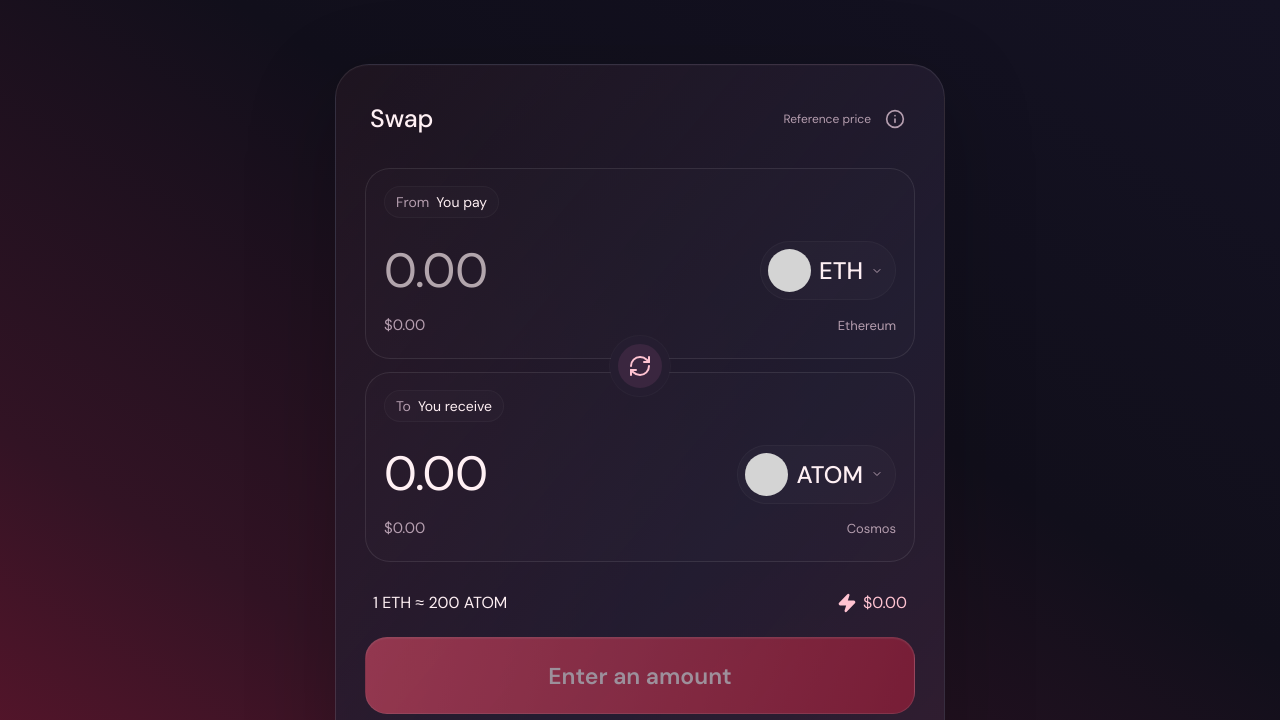
Test: swap interactions › keeps a fallback token unchanged when the user selects the same token
The width and height of the screenshot is (1280, 720).
Click the button with aria-label "You pay: ETH. Select token": point(828, 270) [760, 241, 896, 300]
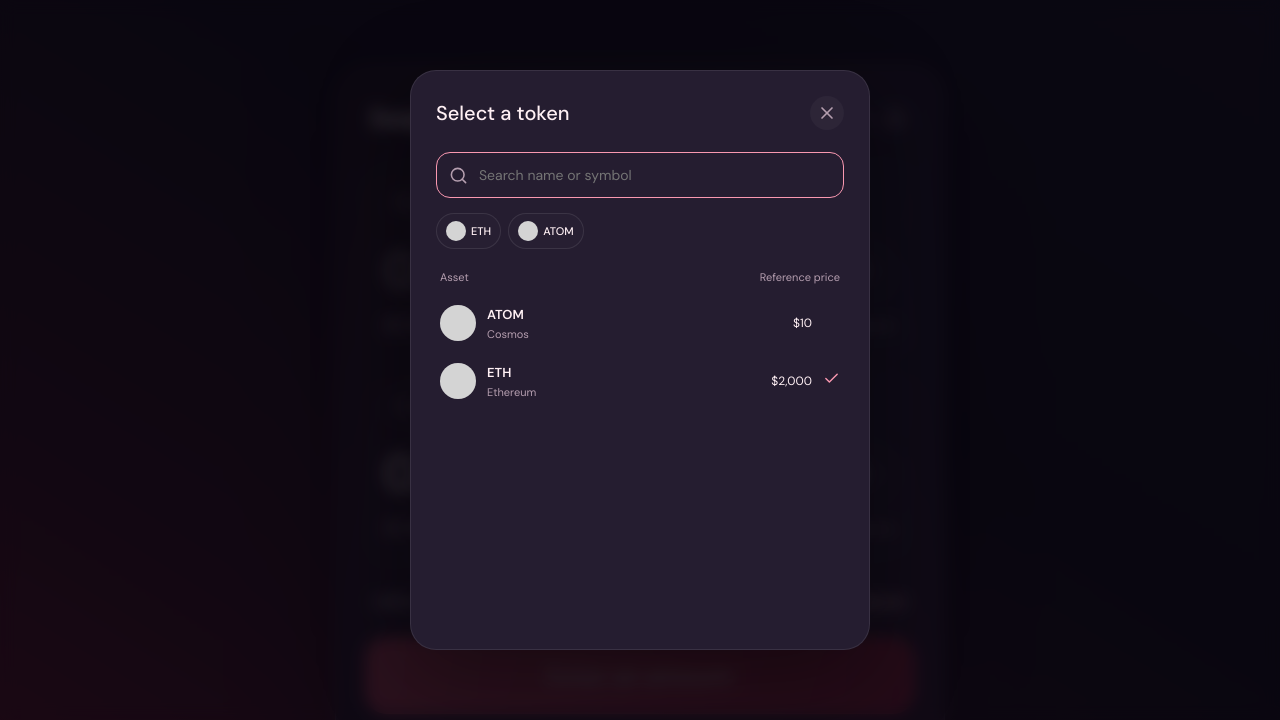
Click the button with aria-label "Select ATOM, Cosmos": point(458, 323) [432, 294, 848, 352]
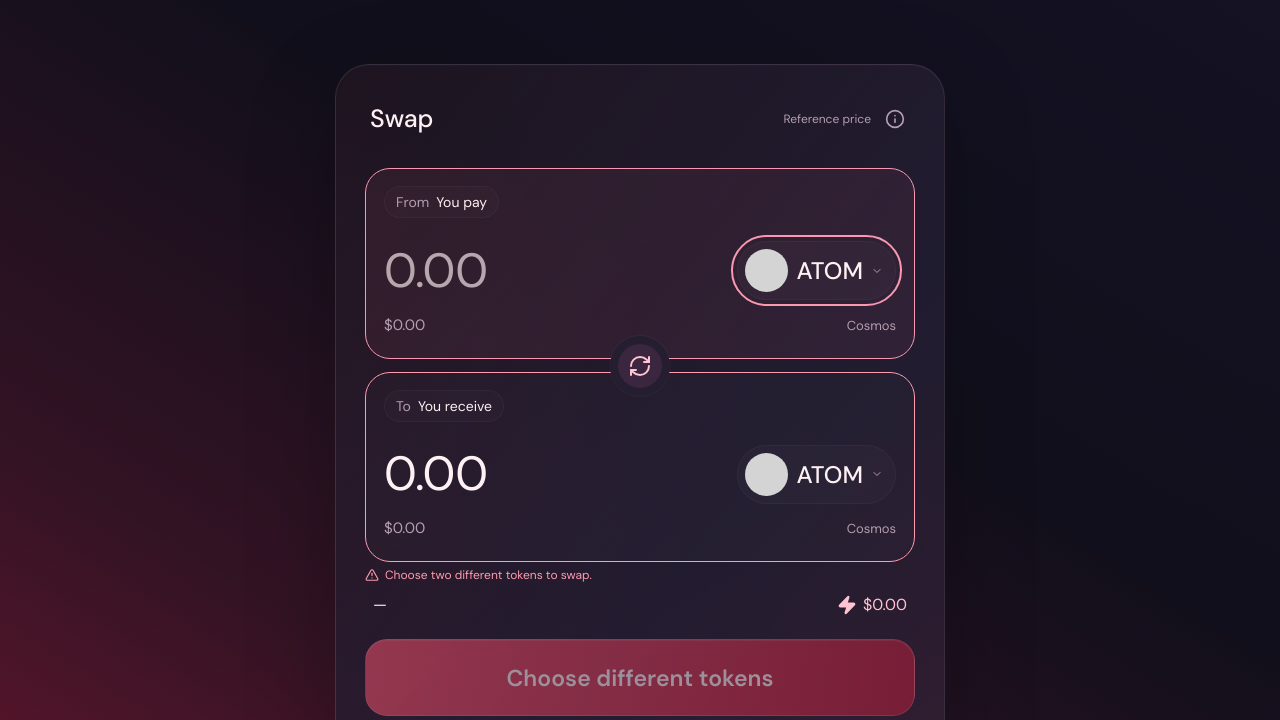
Expected: the button with aria-label "You receive: ATOM. Select token" is shown, [737, 445, 896, 504]
Now the text "Choose two different tokens to swap." is shown, box [385, 567, 592, 583]
